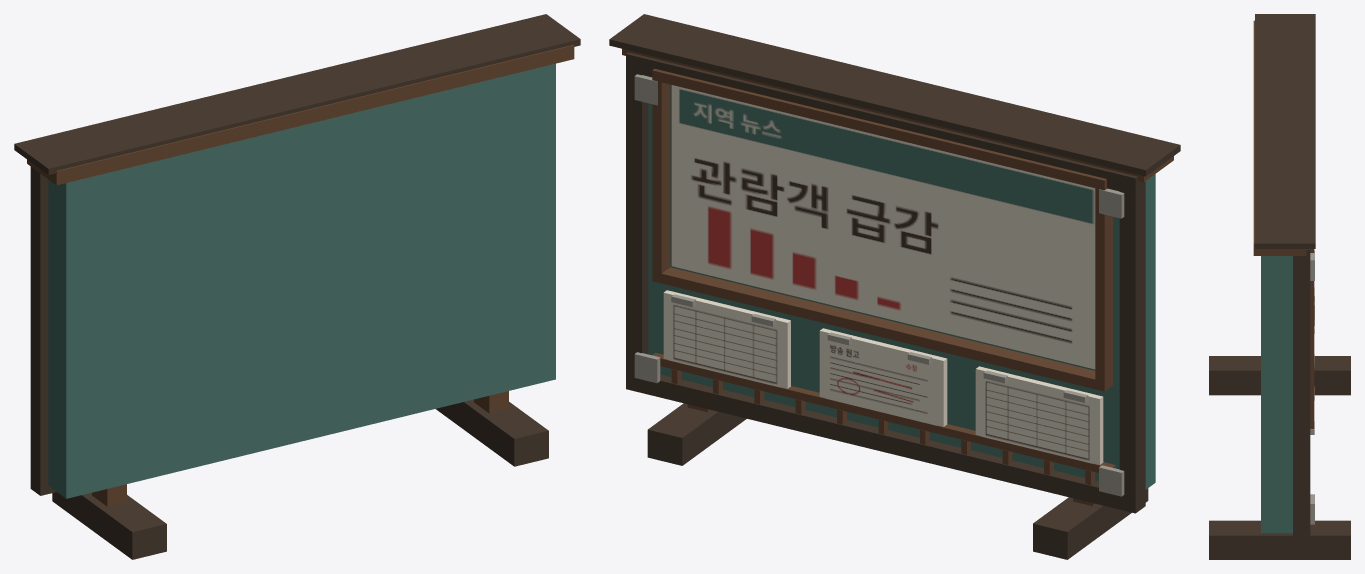
File: S02_Local_News_Board.fbx
The picture shows the model from 3 angles, left to right: view 1: azimuth 30°, elevation 25°; view 2: azimuth 150°, elevation 25°; view 3: azimuth 270°, elevation 25°; orthographic projection. The views are drawn at different scales.
Visible parts, largest first — view 1: Structure; view 2: Structure, Panel; view 3: Structure.
Part boxes in pixels (x1,y1,x2,y2): Structure: (14,14,580,559); Structure: (609,14,1180,559); Panel: (671,85,1095,369); Structure: (1209,14,1350,559).
Size of the model in its own units: 4.02 by 2.79 by 1.05.
6 materials, 1 textured.
